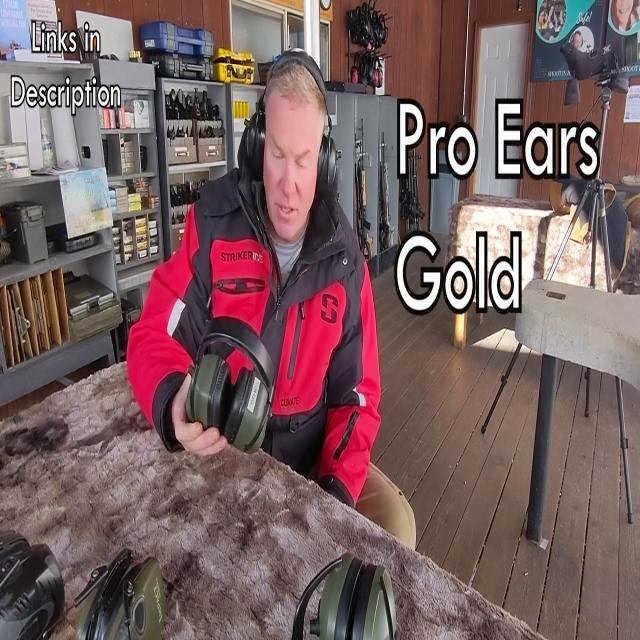earmuff: (183, 348, 233, 453), (223, 363, 271, 457), (314, 131, 344, 207), (242, 104, 269, 184)
